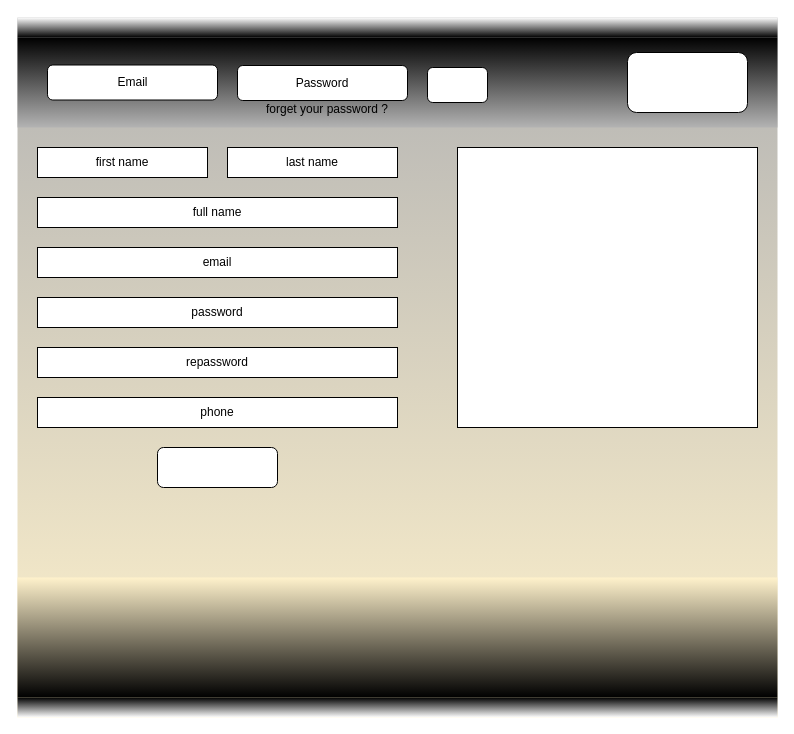
Some shapes in this 794 by 734 pixel diagram are drawn without their labels. Each missing label, with the box of its shape:
ads or description logo: (456, 146, 758, 428)
botton: (426, 66, 488, 102)
Logo: (626, 52, 748, 112)
Regester: (156, 446, 278, 488)
